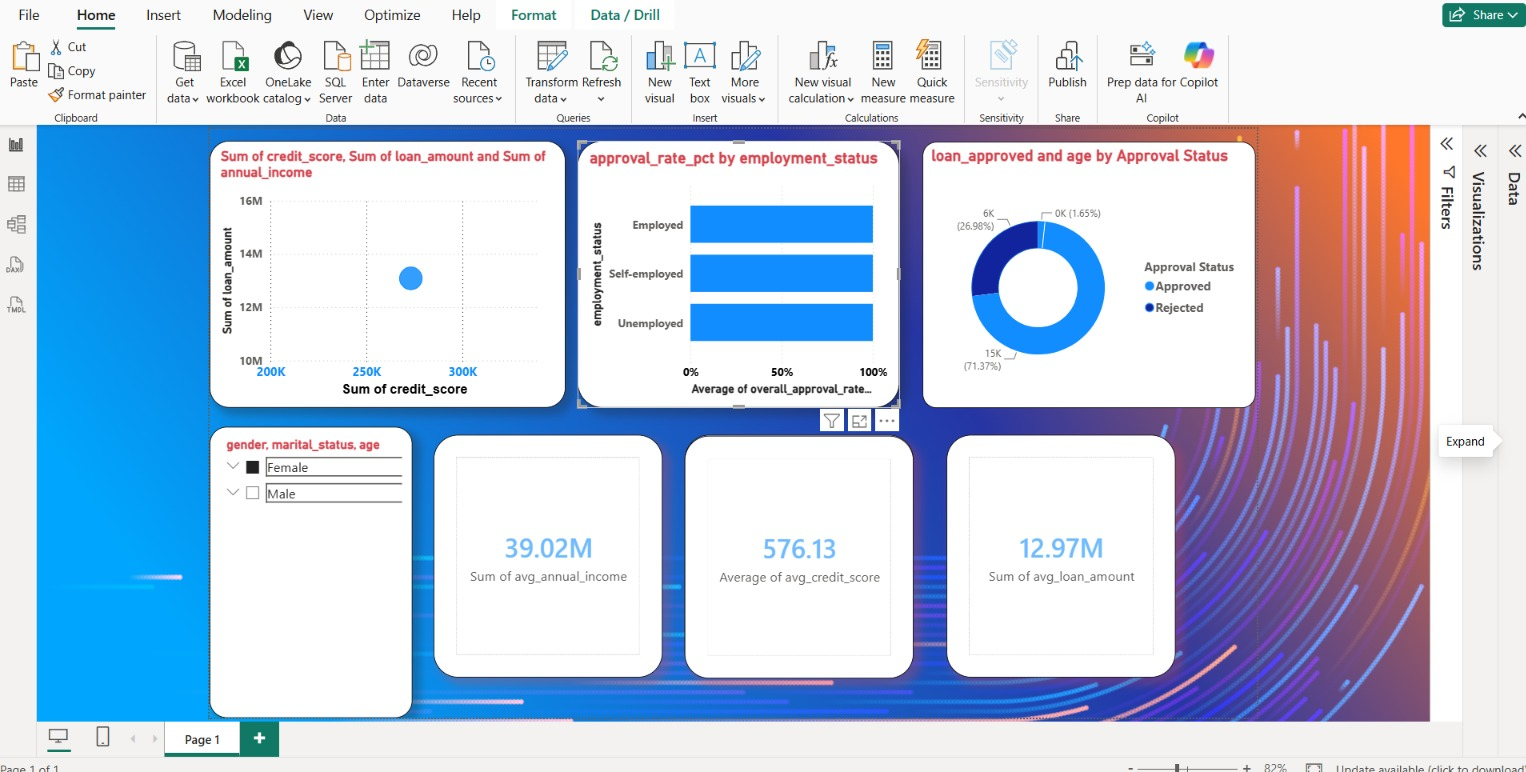

This screenshot's page, from the dashboard's own definition file:
{"tool":"powerbi","page":{"name":"Page 1","canvas":[1280,720],"ordinal":0},"visuals":[{"type":"cardVisual","fields":{"Data":["Sum(loanapproval.avg_annual_income)"]},"box":[580.8,374.2,280,297.1],"z":0},{"type":"cardVisual","title":"AVG LOAN AMOUNT ","fields":{"Data":["Sum(loanapproval.avg_loan_amount)"]},"box":[901.2,374.2,280,297.1],"z":2000},{"type":"donutChart","title":" loan_approved and  age by Approval Status","fields":{"Category":["loanapproval.Approval Status"],"Y":["Sum(loanapproval.loan_approved)","Sum(loanapproval.age)"]},"box":[871.9,15.9,407.2,325.3],"z":3000},{"type":"hundredPercentStackedBarChart","title":"approval_rate_pct by employment_status","fields":{"Category":["loanapproval.employment_status"],"Y":["Avg(loanapproval.overall_approval_rate_pct)"]},"box":[450.1,15.1,393.8,326.6],"z":4000},{"type":"scatterChart","fields":{"X":["Sum(loanapproval.credit_score)"],"Y":["Sum(loanapproval.loan_amount)"]},"box":[0,14.7,435.3,326.5],"z":5000},{"type":"slicer","fields":{"Values":["loanapproval.gender","loanapproval.marital_status","loanapproval.age"]},"box":[0,364.4,248.2,355.8],"z":6000},{"type":"cardVisual","title":"AVG LOAN AMOUNT ","fields":{"Data":["Avg(loanapproval.avg_credit_score)"]},"box":[580.8,375.4,280,297.1],"z":6001},{"type":"cardVisual","title":"AVG LOAN AMOUNT ","fields":{"Data":["Sum(loanapproval.avg_annual_income)"]},"box":[273.9,374.2,280,297.1],"z":6002}]}

Visuals, with their boxes on the page's 1280x720 design canvas (x1, y1, x2, y2). These are canvas units, not pixel positions in the 1526x772 screenshot, which may show the page scaled, cropped or inside an application window:
cardVisual - Sum(loanapproval.avg_annual_income): (left=581, top=374, right=861, bottom=671)
"AVG LOAN AMOUNT " cardVisual: (left=901, top=374, right=1181, bottom=671)
" loan_approved and  age by Approval Status" donutChart: (left=872, top=16, right=1279, bottom=341)
"approval_rate_pct by employment_status" hundredPercentStackedBarChart: (left=450, top=15, right=844, bottom=342)
scatterChart - Sum(loanapproval.credit_score) x Sum(loanapproval.loan_amount): (left=0, top=15, right=435, bottom=341)
slicer - loanapproval.gender x loanapproval.marital_status: (left=0, top=364, right=248, bottom=720)
"AVG LOAN AMOUNT " cardVisual: (left=581, top=375, right=861, bottom=672)
"AVG LOAN AMOUNT " cardVisual: (left=274, top=374, right=554, bottom=671)
